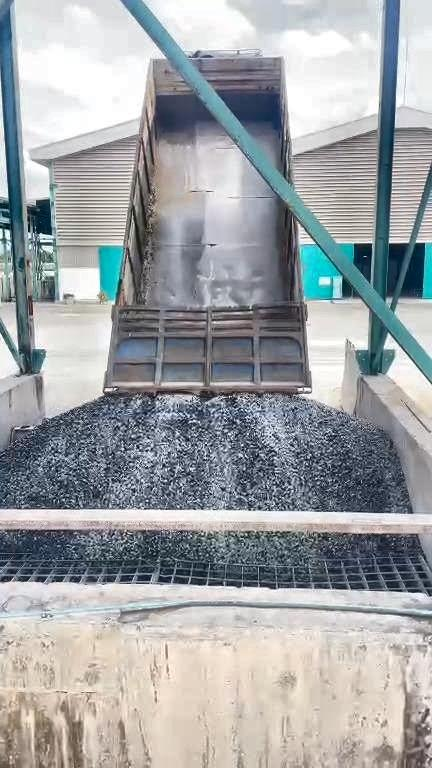gravel: (0, 395, 410, 512), (0, 534, 400, 562)
